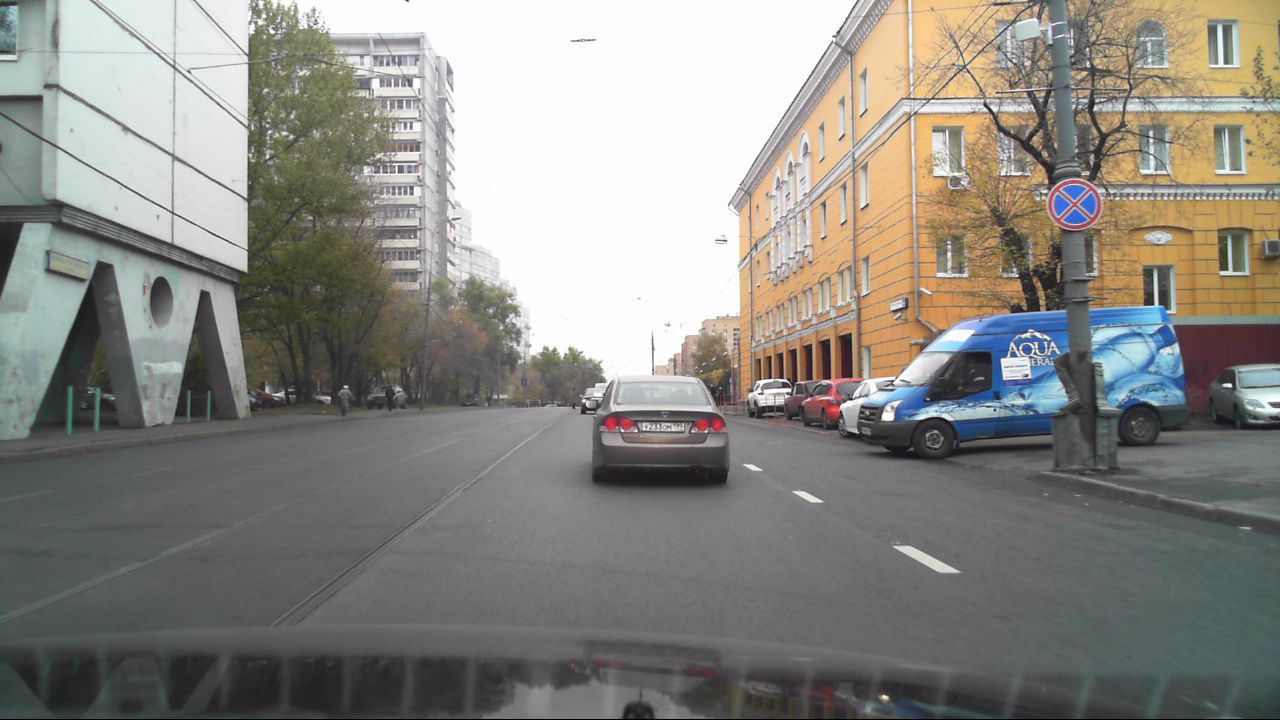No Parking: (1049, 179, 1102, 230)
